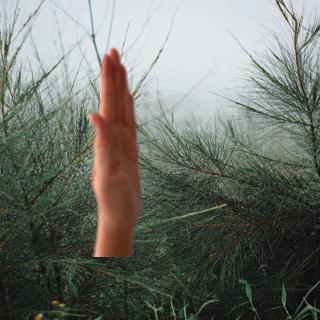Right: (80, 41, 155, 249)
